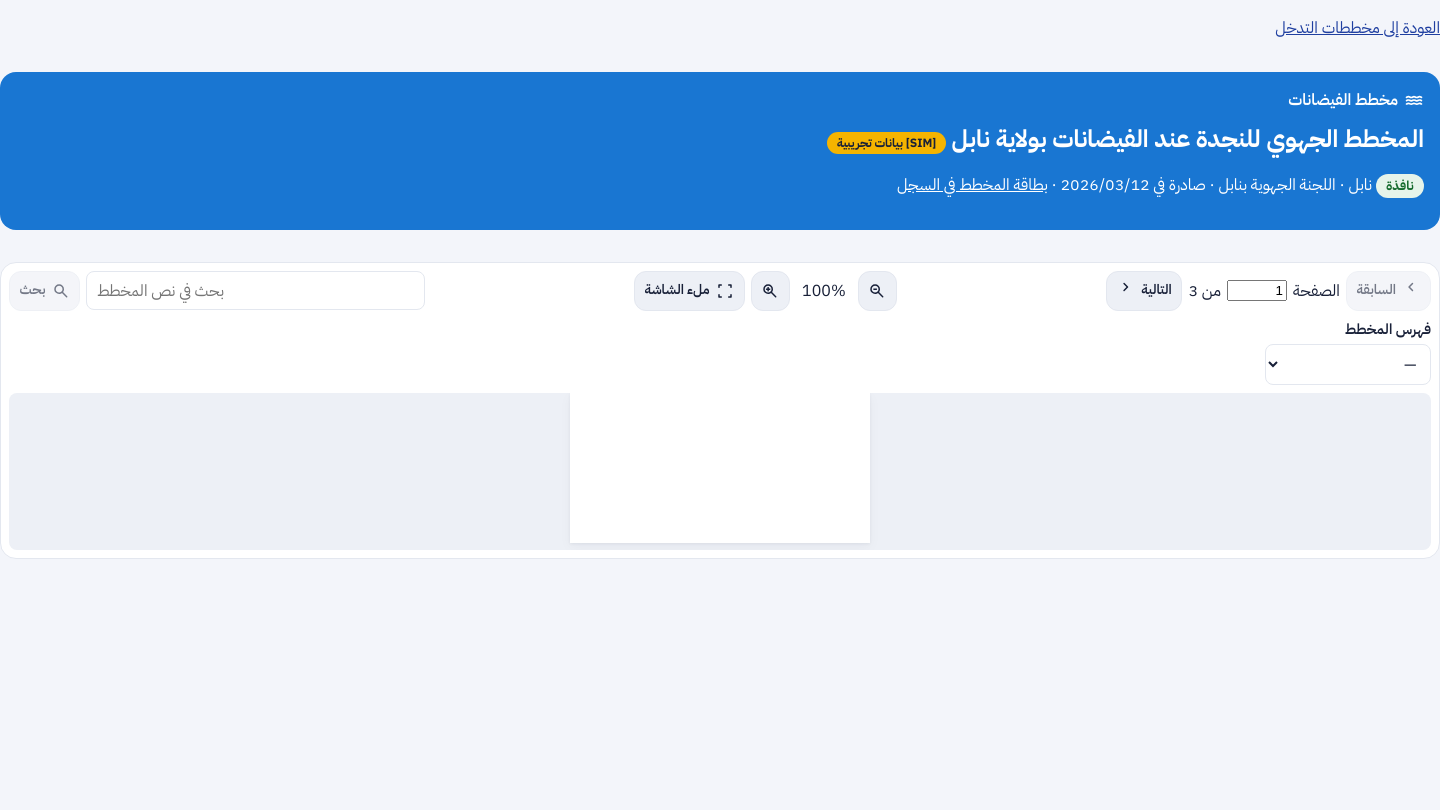
PlanViewerPage › reads a plan on the screen under the colour of its hazard
Expected: the text "مخطط الفيضانات" is shown, [1288,88,1424,112]
Expected: the text "من 3" is shown, [1188,279,1221,303]
Step 1. Click the button "التالية" → (1144, 291), box [1106,271,1182,311]
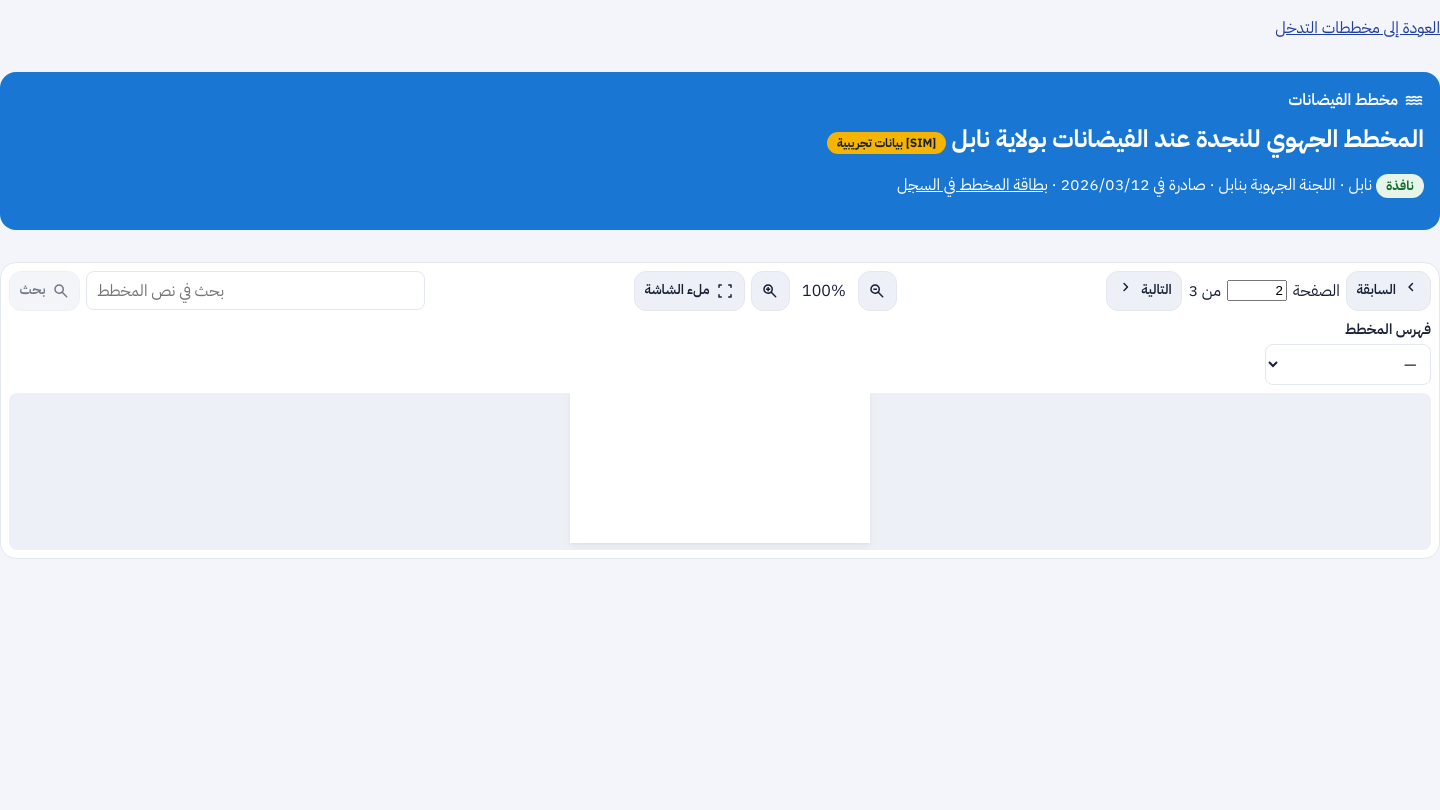
Now the number field labelled "الصفحة" holds "2", box [1227,280,1287,301]
Step 2. Select "الفصل 2: الإنذار (3)" in the dropdown labelled "فهرس المخطط" → (1348, 365), box [1265,344,1431,385]
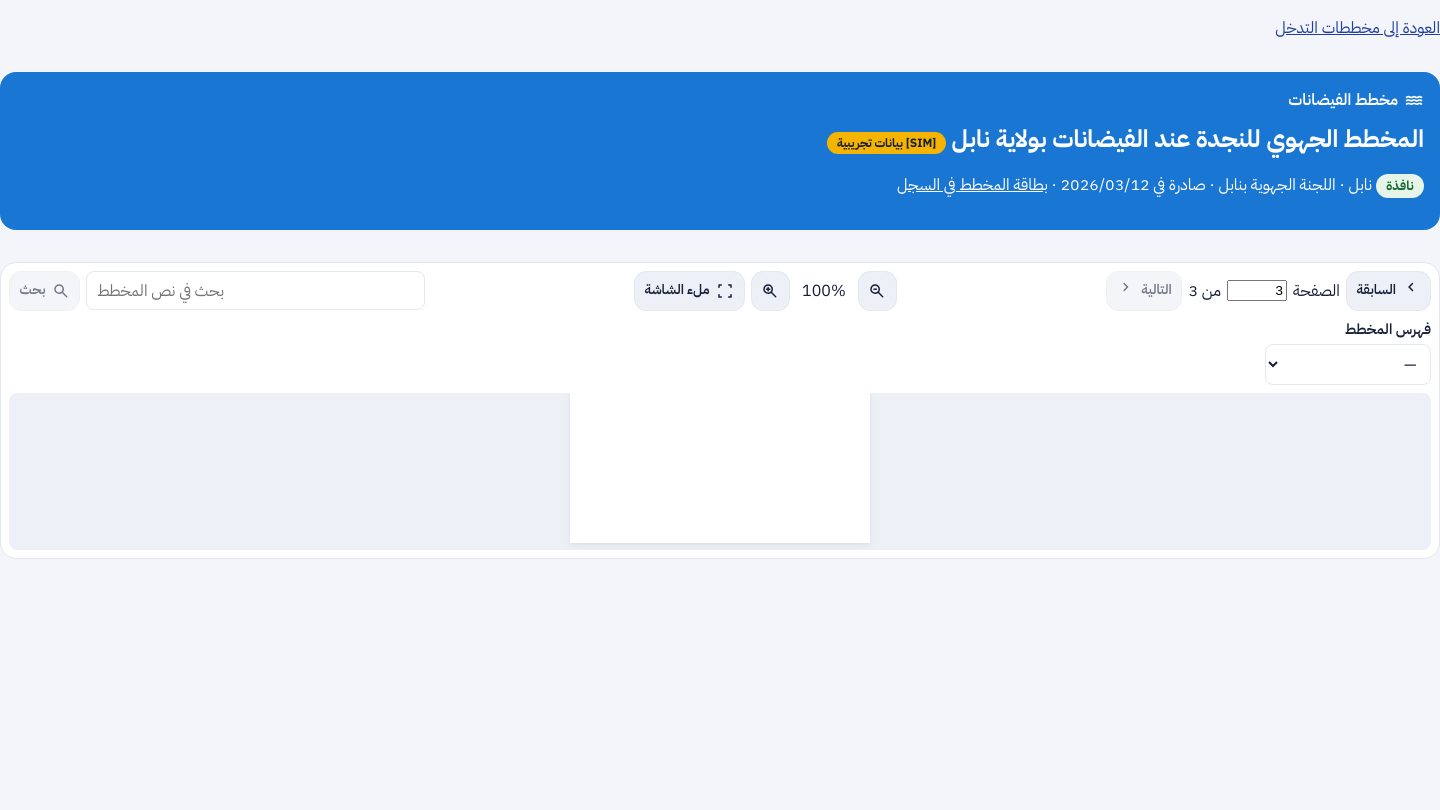
Now the number field labelled "الصفحة" holds "3", box [1227,280,1287,301]
Step 3. Type "الإيواء" into the search field labelled "بحث في نص المخطط" → (256, 291), box [86,271,425,310]
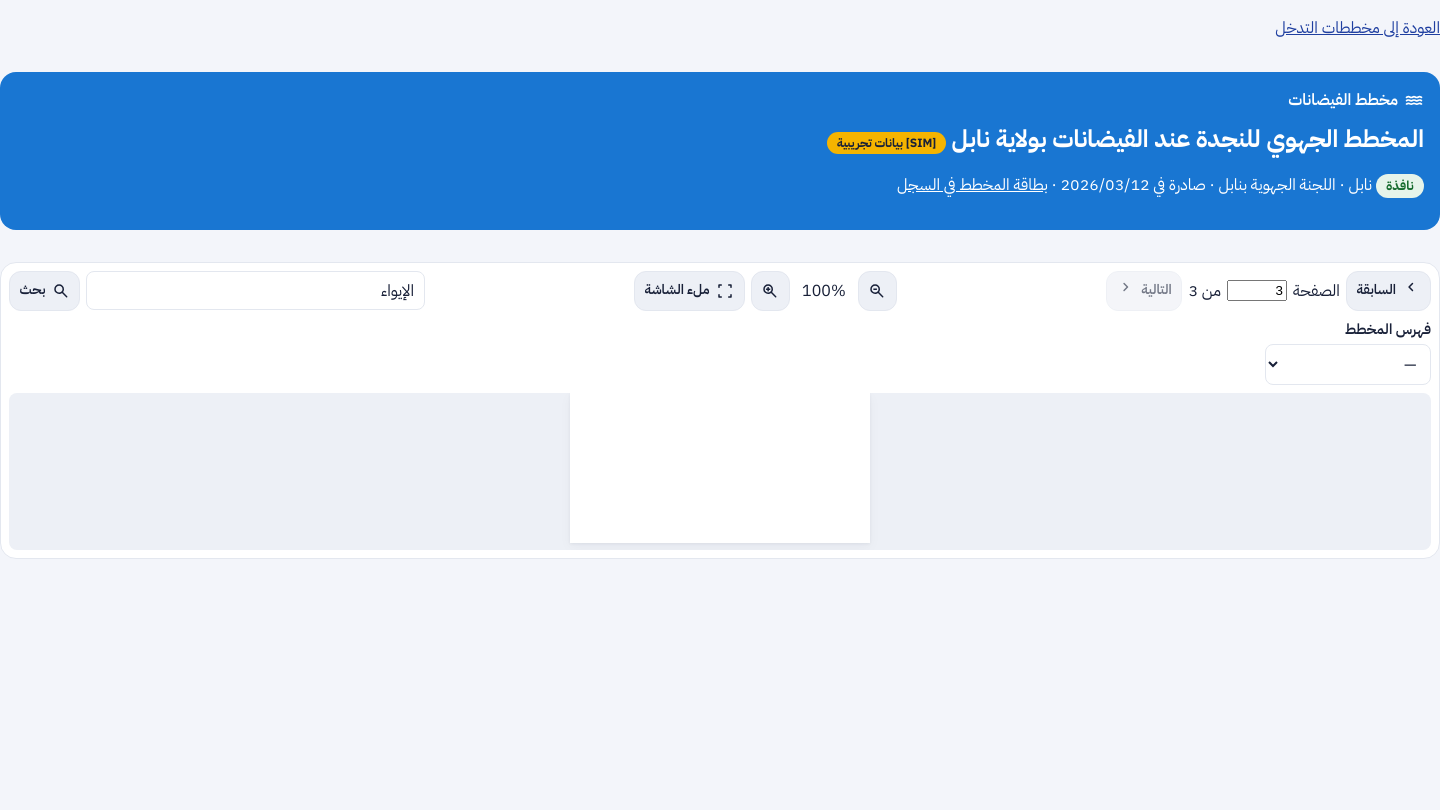
Step 4. Click the button "بحث" → (45, 291), box [9,271,80,311]
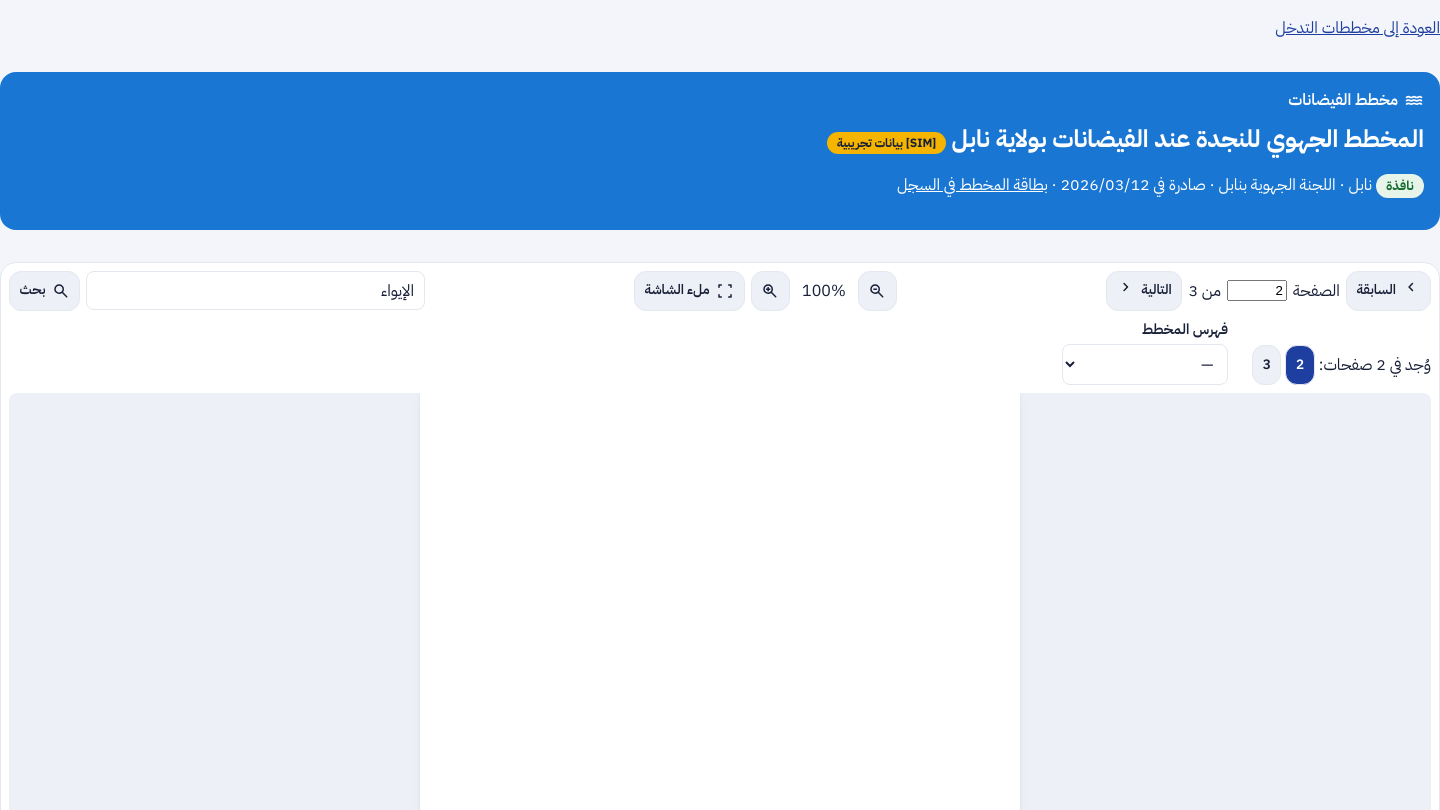
Now the text "وُجد في 2 صفحات: 2 3" is shown, box [1252,345,1431,385]
Now the number field labelled "الصفحة" holds "2", box [1227,280,1287,301]
